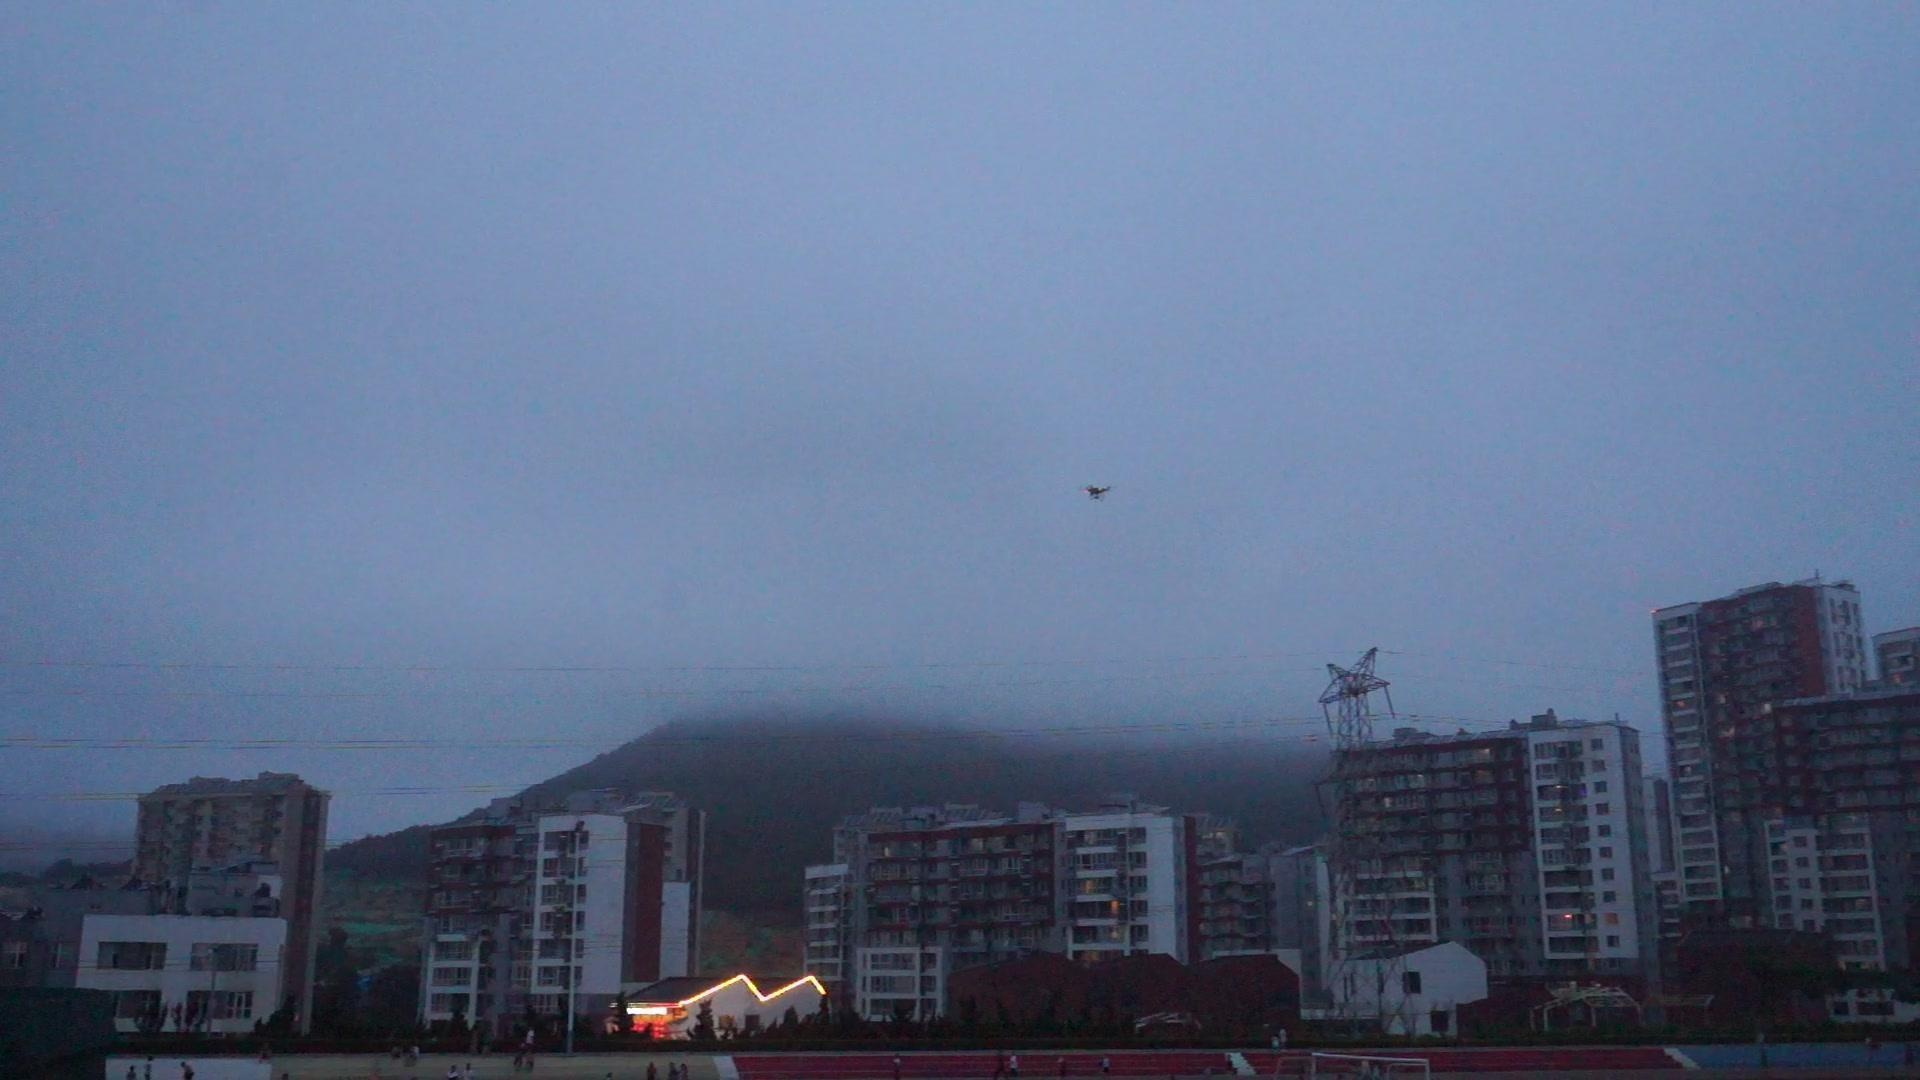UAV: (1083, 485, 1117, 502)
